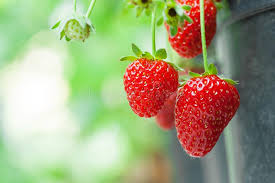ripe: (177, 71, 244, 164), (159, 0, 223, 64), (120, 51, 175, 123), (151, 68, 205, 137)
unripe: (55, 3, 98, 51)
